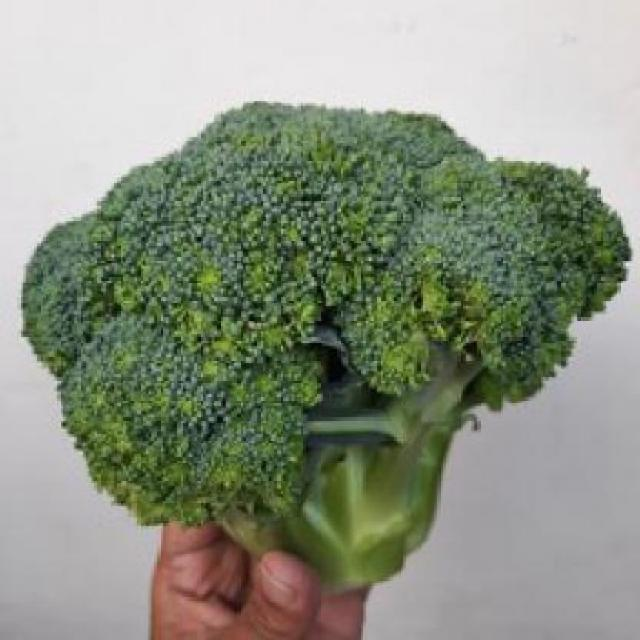broccoli: (23, 120, 626, 574)
